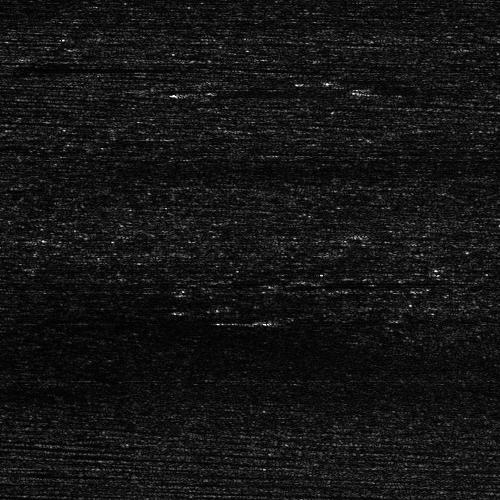rock: (217, 315, 310, 324), (161, 89, 224, 96), (0, 61, 50, 68), (286, 278, 327, 283)
shadow: (264, 315, 484, 324), (193, 89, 342, 96), (9, 61, 155, 68), (307, 278, 456, 283)
